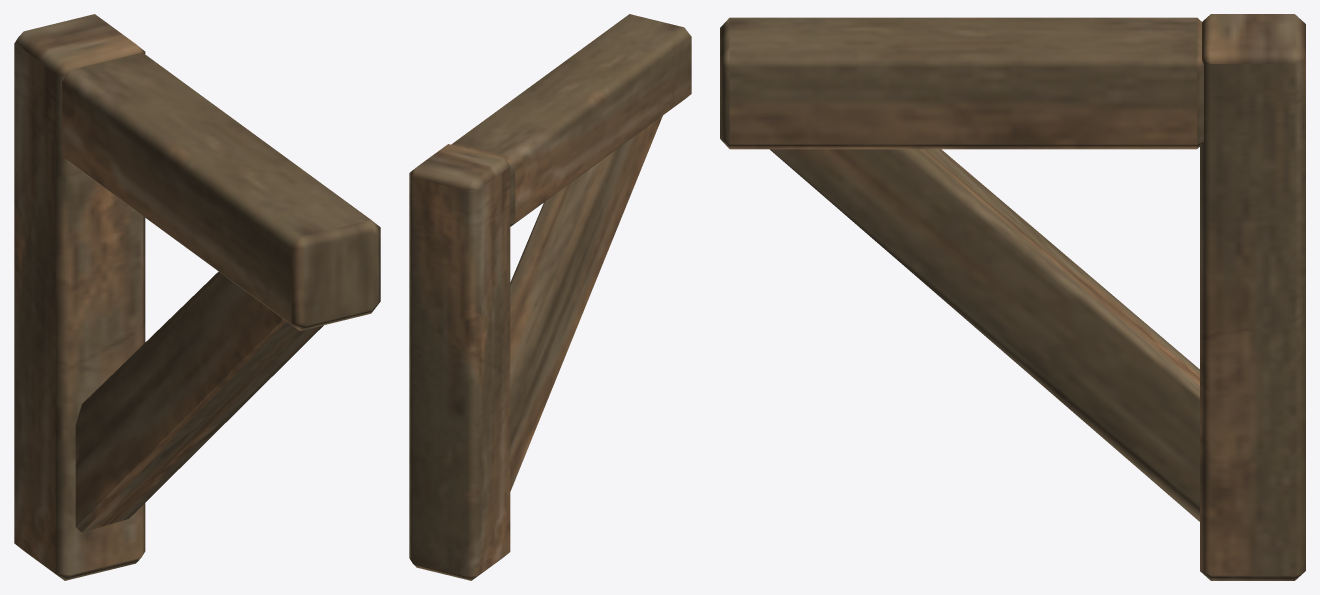
The model's file is SM_wood_support_01.fbx.
3 views of the same model, side by side, from view 1: azimuth 30°, elevation 25°; view 2: azimuth 150°, elevation 25°; view 3: azimuth 270°, elevation 25° (orthographic). The views are drawn at different scales.
Parts seen in each view (by area): view 1: SM_wood_support_01_LOD0; view 2: SM_wood_support_01_LOD0; view 3: SM_wood_support_01_LOD0.
Boxes of the visible parts, bbox=[...] form: SM_wood_support_01_LOD0: bbox=[14, 14, 380, 580]; SM_wood_support_01_LOD0: bbox=[409, 14, 691, 580]; SM_wood_support_01_LOD0: bbox=[720, 14, 1305, 580].
Size of the model in its own units: 18.09 by 100 by 100.
Materials: 1 (1 with a texture image).
